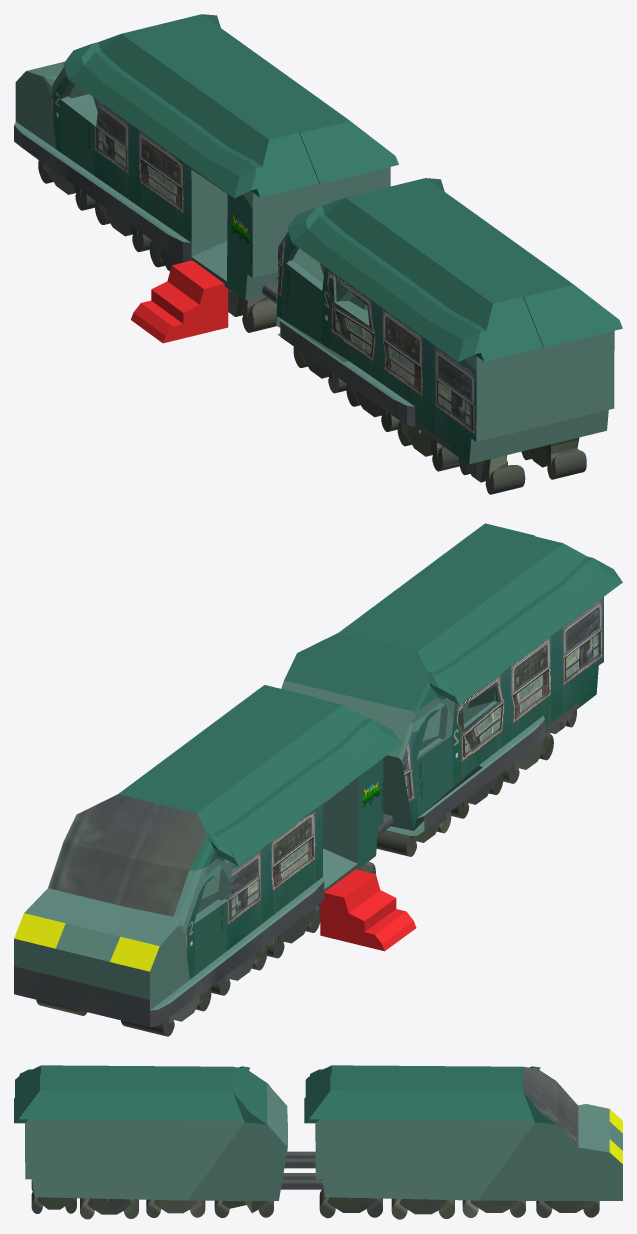
File: train.fbx
3 views of the same model, one above another, from view 1: azimuth 30°, elevation 25°; view 2: azimuth 150°, elevation 25°; view 3: azimuth 270°, elevation 25° (orthographic). The views are drawn at different scales.
Parts seen in each view (by area): view 1: Cube; view 2: Cube; view 3: Cube.
Part boxes in pixels (<box>): Cube: <box>14,14,622,494</box>; Cube: <box>14,523,622,1036</box>; Cube: <box>14,1065,622,1219</box>.
Bounding box in the file's own units: 971 × 897 × 3957.
Materials: 1 (1 with a texture image).
